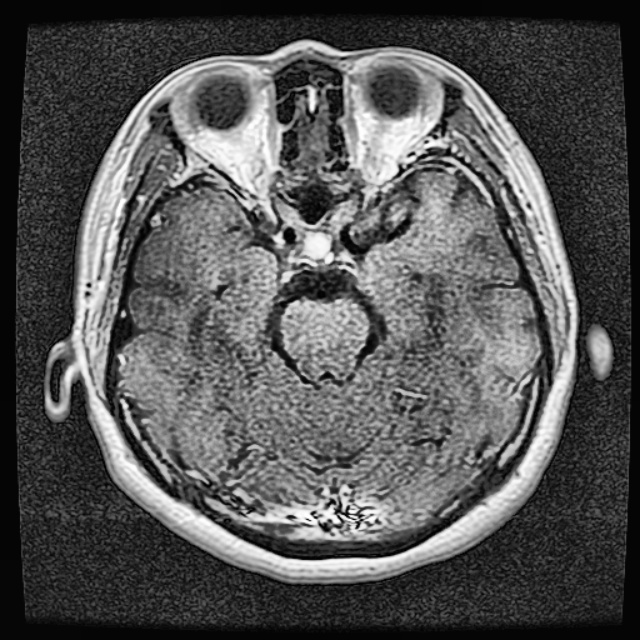Pituitary: (292, 222, 340, 263)
